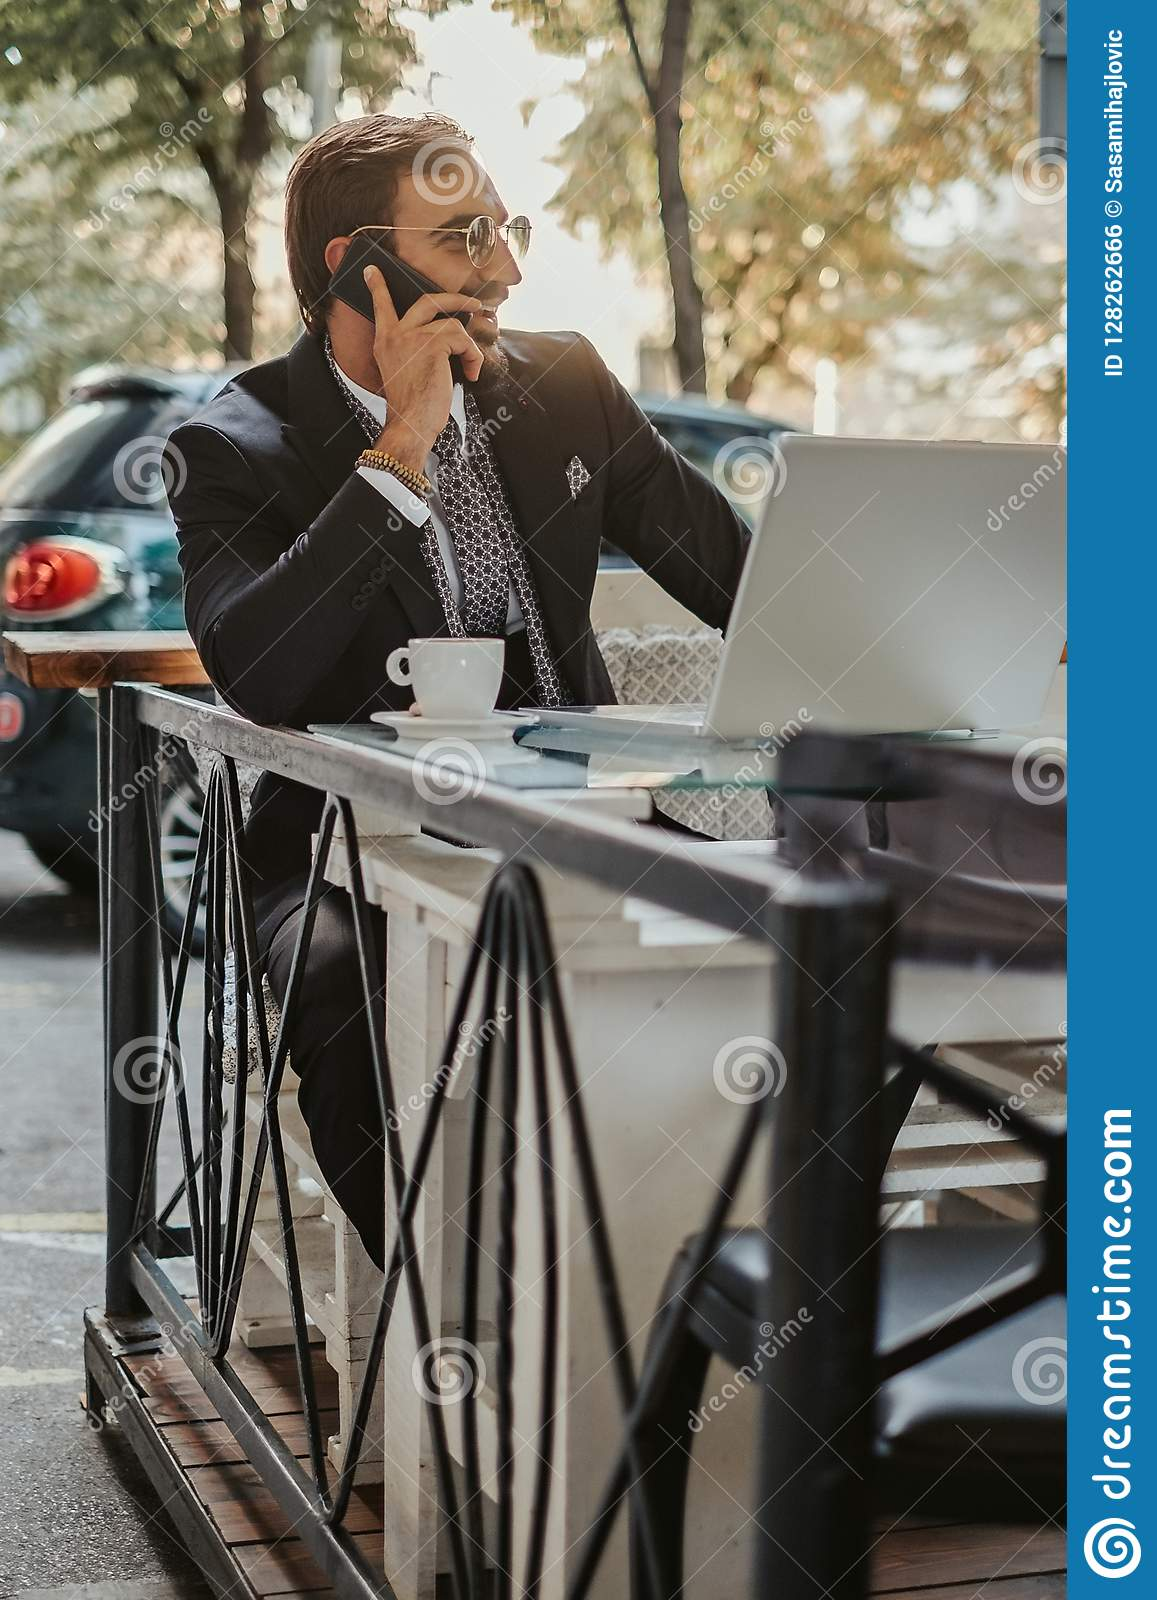phone: (332, 234, 473, 369)
talk: (331, 201, 523, 440)
